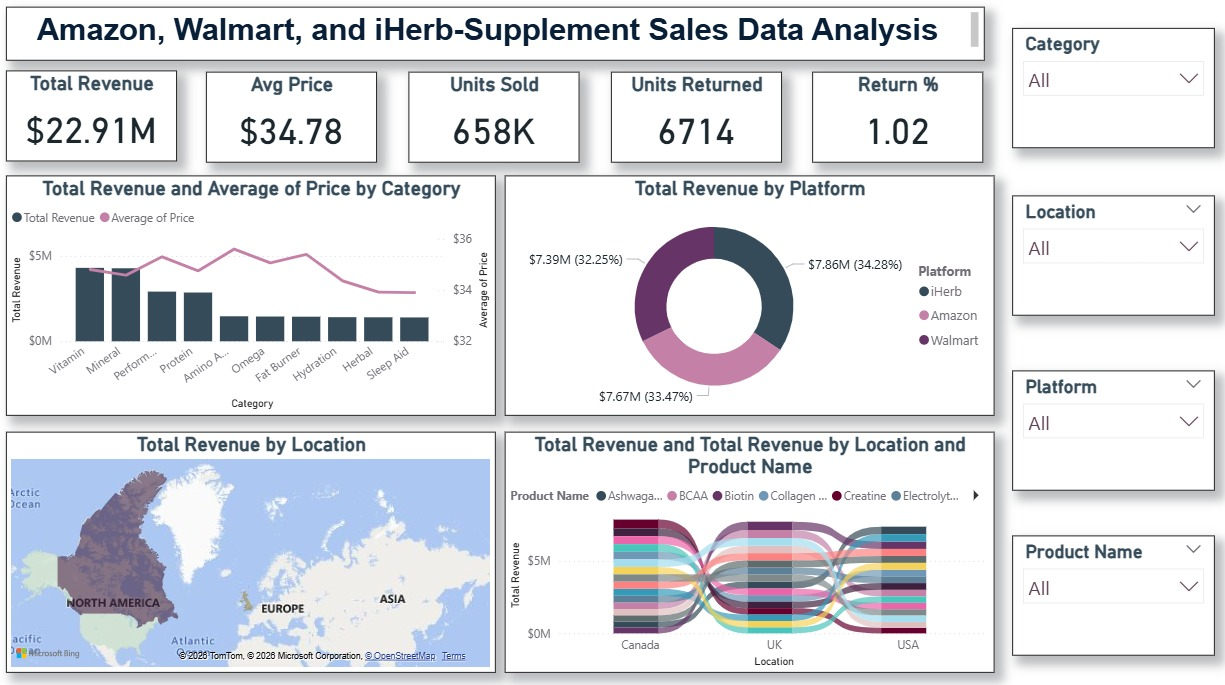

This screenshot's page, from the dashboard's own definition file:
{"tool":"powerbi","page":{"name":"Sales Analysis Dashboard","canvas":[1280,720],"ordinal":0},"visuals":[{"type":"textbox","box":[9.8,0,1016.2,63.6],"z":0},{"type":"card","title":"Total Revenue","fields":{"Values":["Sum(Supplement_Sales_Weekly_Expanded.Revenue)"]},"box":[9.8,75.8,177.3,94.2],"z":1000},{"type":"card","title":"Avg Price","fields":{"Values":["Avg(Supplement_Sales_Weekly_Expanded.Price)"]},"box":[217.7,77,177.3,94.2],"z":2000},{"type":"card","title":"Units Sold ","fields":{"Values":["Sum(Supplement_Sales_Weekly_Expanded.Units Sold)"]},"box":[429.2,77,177.3,94.2],"z":3000},{"type":"card","title":"Units Returned","fields":{"Values":["Sum(Supplement_Sales_Weekly_Expanded.Units Returned)"]},"box":[639.5,77,177.3,94.2],"z":4000},{"type":"card","title":"Return %","fields":{"Values":["Supplement_Sales_Weekly_Expanded.Return %"]},"box":[848.6,77,177.3,94.2],"z":5000},{"type":"slicer","fields":{"Values":["Supplement_Sales_Weekly_Expanded.Category"]},"box":[1055.3,31.8,210.3,124.7],"z":6000},{"type":"slicer","fields":{"Values":["Supplement_Sales_Weekly_Expanded.Location"]},"box":[1055.3,205.4,210.3,124.7],"z":7000},{"type":"slicer","fields":{"Values":["Supplement_Sales_Weekly_Expanded.Platform"]},"box":[1055.3,387.6,210.3,124.7],"z":8000},{"type":"slicer","fields":{"Values":["Supplement_Sales_Weekly_Expanded.Product Name"]},"box":[1055.3,558.8,210.3,124.7],"z":9000},{"type":"lineStackedColumnComboChart","fields":{"Category":["Supplement_Sales_Weekly_Expanded.Category"],"Y":["Sum(Supplement_Sales_Weekly_Expanded.Revenue)"],"Y2":["Avg(Supplement_Sales_Weekly_Expanded.Price)"]},"box":[9.8,184.6,508.7,249.5],"z":10000},{"type":"donutChart","fields":{"Y":["Sum(Supplement_Sales_Weekly_Expanded.Revenue)"],"Category":["Supplement_Sales_Weekly_Expanded.Platform"]},"box":[528.3,184.6,508.7,249.5],"z":11000},{"type":"filledMap","fields":{"Category":["Supplement_Sales_Weekly_Expanded.Location"]},"box":[9.8,450,508.7,250.7],"z":11001},{"type":"ribbonChart","fields":{"Category":["Supplement_Sales_Weekly_Expanded.Location"],"Y":["Sum(Supplement_Sales_Weekly_Expanded.Revenue)"],"Series":["Supplement_Sales_Weekly_Expanded.Product Name"]},"box":[528.3,451.2,508.7,250.7],"z":11002}]}

Visuals, with their boxes in screenshot pixels (x1, y1, x2, y2), scaled from the page's 1280x720 canvas onto the 1225x685 screenshot:
textbox: left=9, top=0, right=982, bottom=61
"Total Revenue" card: left=9, top=72, right=179, bottom=162
"Avg Price" card: left=208, top=73, right=378, bottom=163
"Units Sold " card: left=411, top=73, right=580, bottom=163
"Units Returned" card: left=612, top=73, right=782, bottom=163
"Return %" card: left=812, top=73, right=982, bottom=163
slicer - Supplement_Sales_Weekly_Expanded.Category: left=1010, top=30, right=1211, bottom=149
slicer - Supplement_Sales_Weekly_Expanded.Location: left=1010, top=195, right=1211, bottom=314
slicer - Supplement_Sales_Weekly_Expanded.Platform: left=1010, top=369, right=1211, bottom=487
slicer - Supplement_Sales_Weekly_Expanded.Product Name: left=1010, top=532, right=1211, bottom=650
lineStackedColumnComboChart - Supplement_Sales_Weekly_Expanded.Category x Sum(Supplement_Sales_Weekly_Expanded.Revenue): left=9, top=176, right=496, bottom=413
donutChart - Sum(Supplement_Sales_Weekly_Expanded.Revenue) x Supplement_Sales_Weekly_Expanded.Platform: left=506, top=176, right=992, bottom=413
filledMap - Supplement_Sales_Weekly_Expanded.Location: left=9, top=428, right=496, bottom=667
ribbonChart - Supplement_Sales_Weekly_Expanded.Location x Sum(Supplement_Sales_Weekly_Expanded.Revenue): left=506, top=429, right=992, bottom=668
